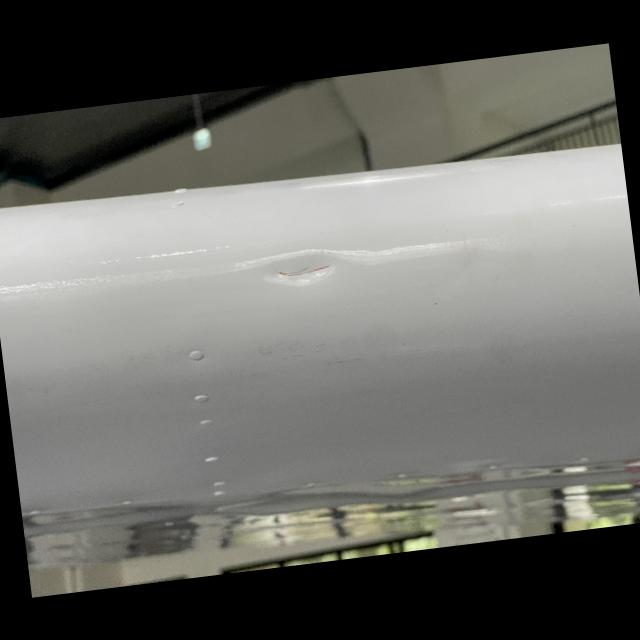dent: (230, 238, 370, 300)
